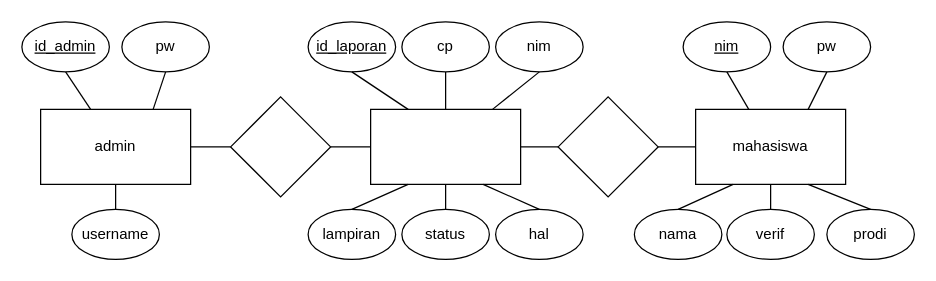
Image size: 936x281. Some labels were removed from this diagram. The shapes that lost their labels are listed below. From the top down, each one's centre as x and y in pixels, then its label:
At (x=280, y=146): "kelola".
At (x=445, y=146): "laporan".
At (x=607, y=146): "kirim".
